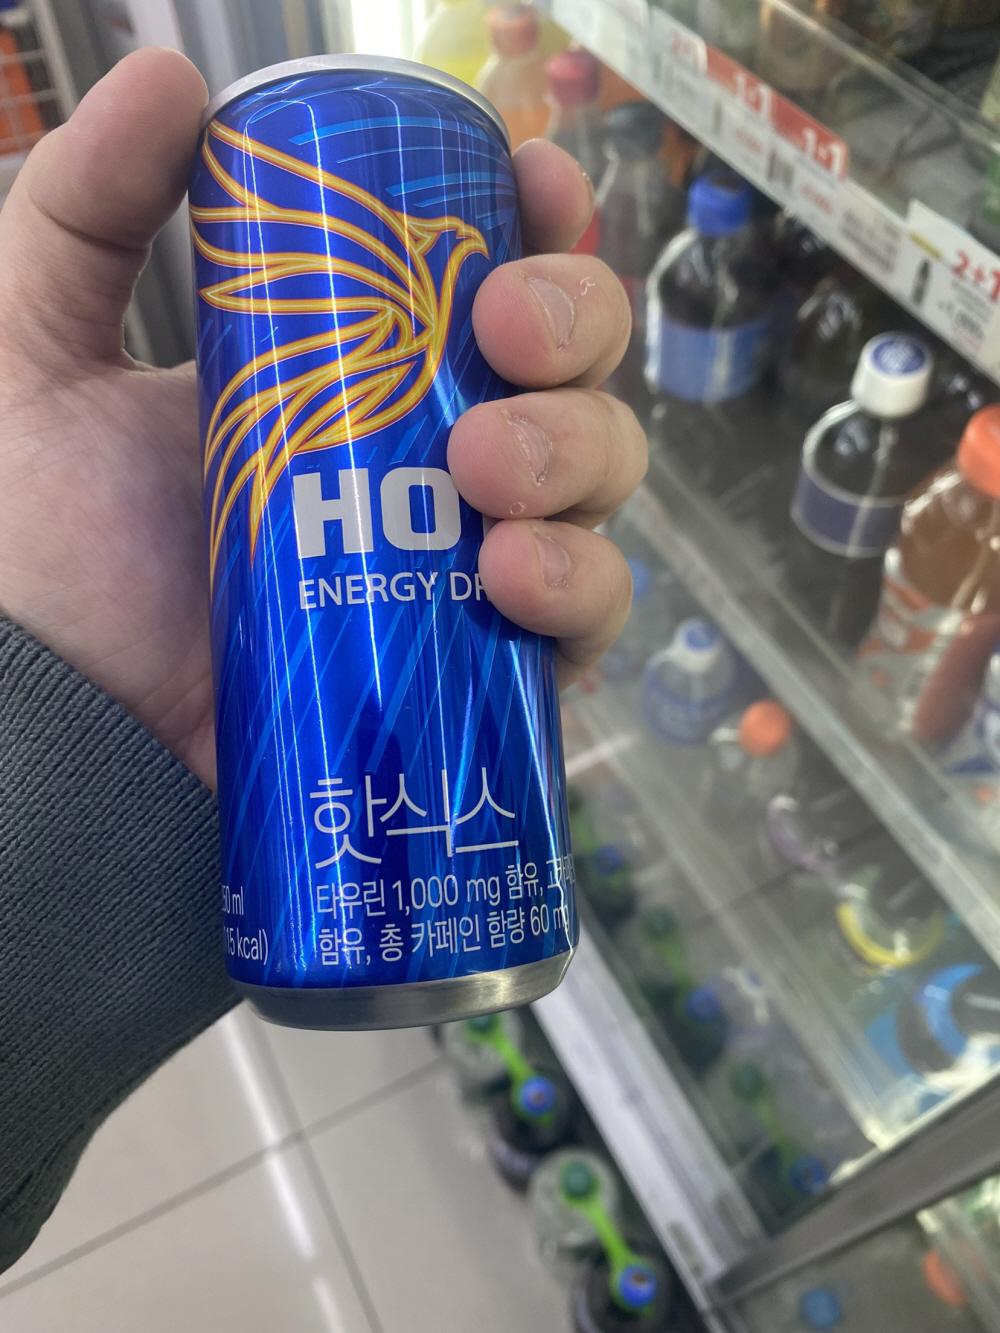hotsix_org: (188, 58, 569, 1022)
